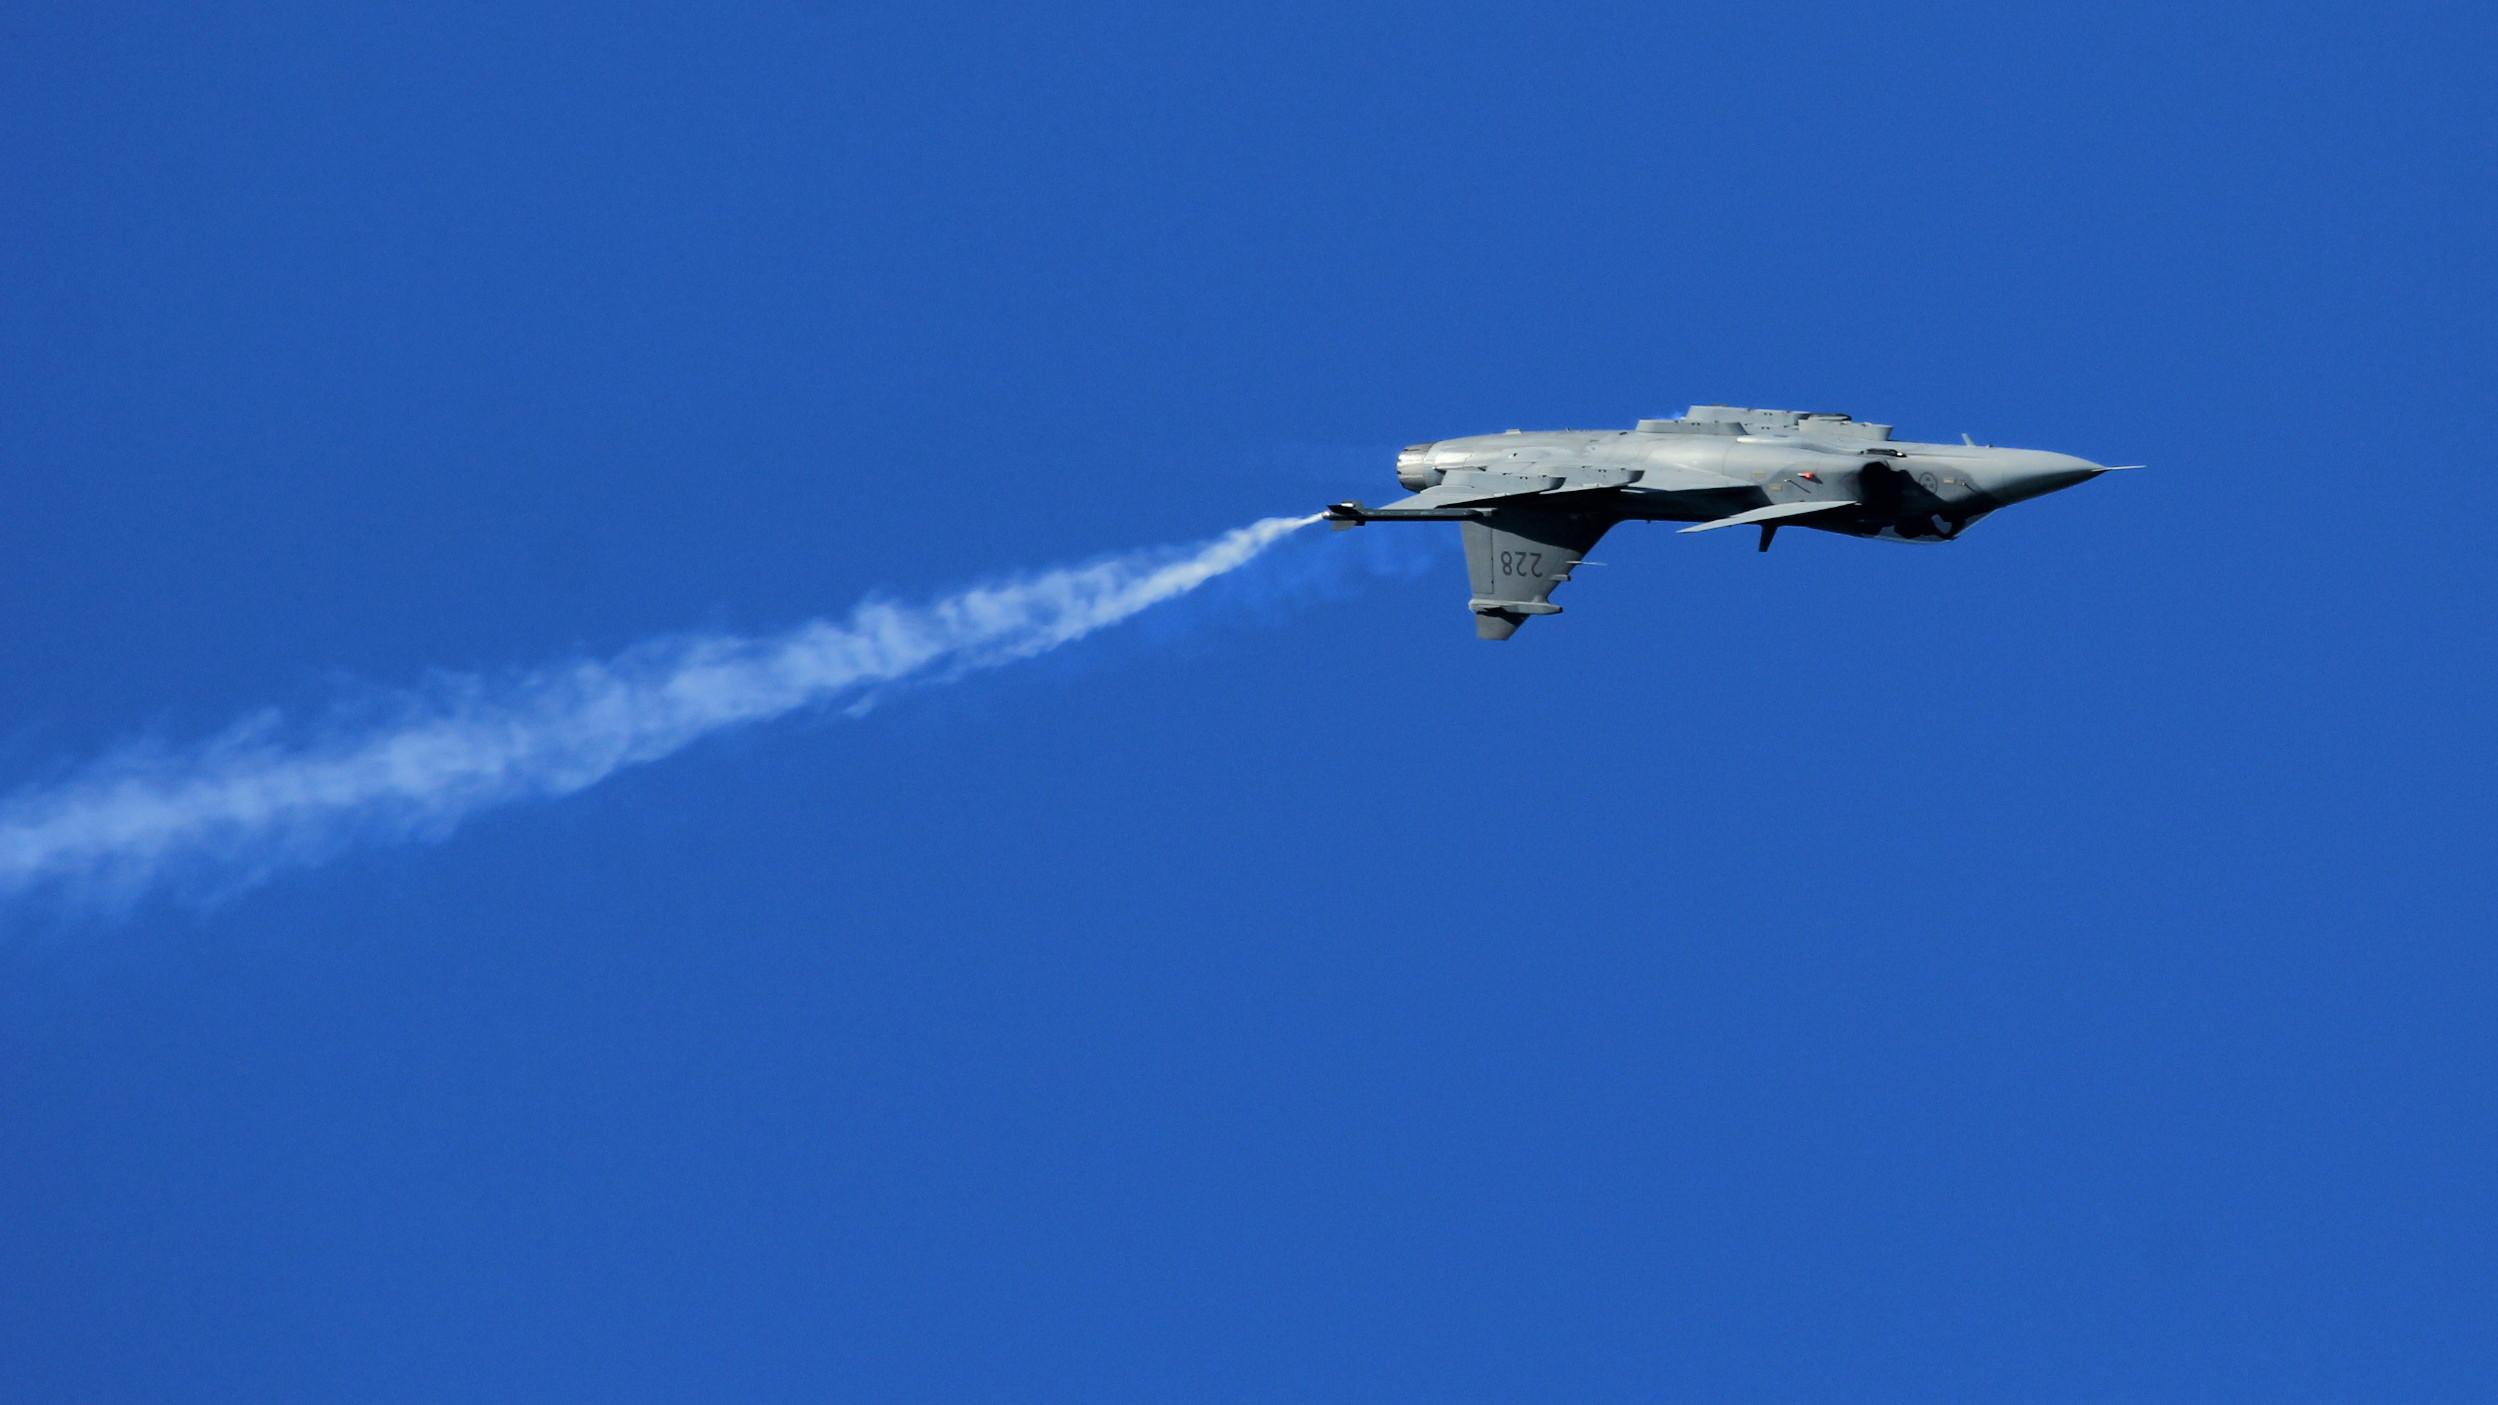JAS39: (1323, 401, 2150, 642)
